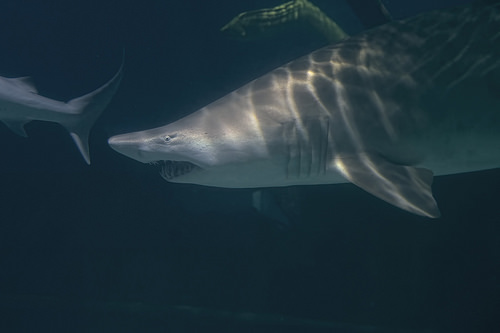shark: (102, 16, 490, 226)
